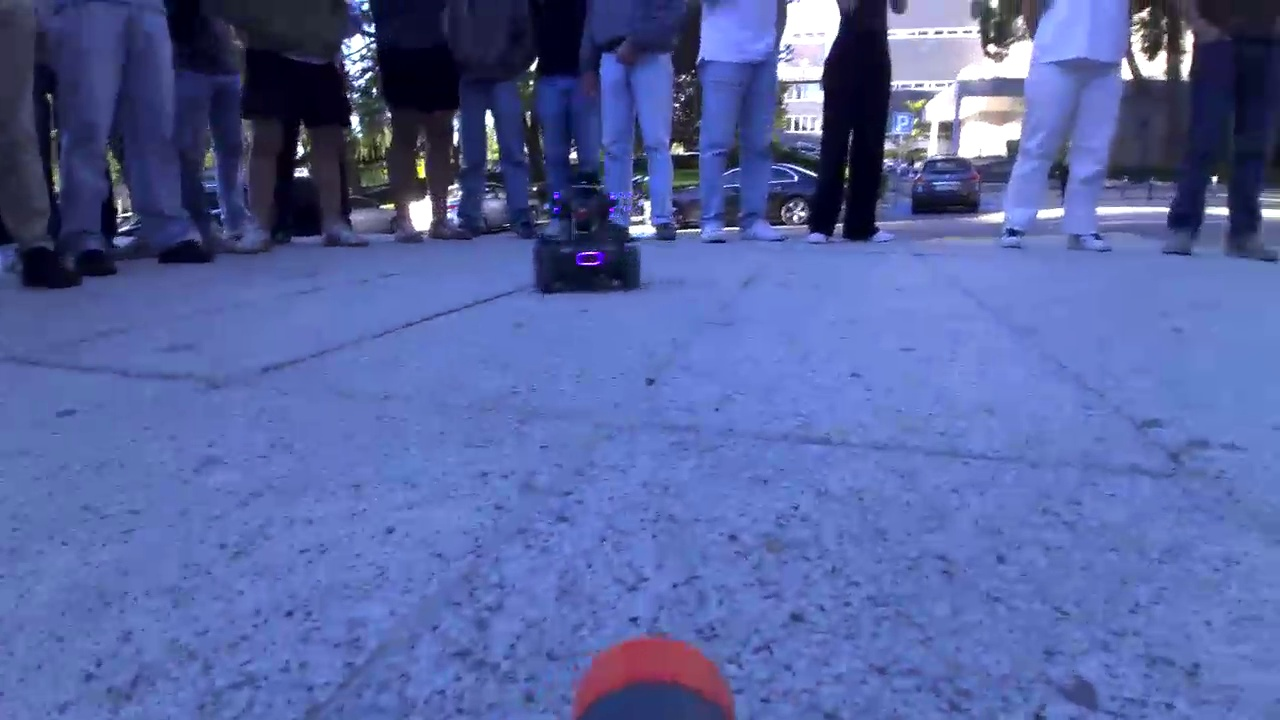robot: (512, 183, 654, 304)
